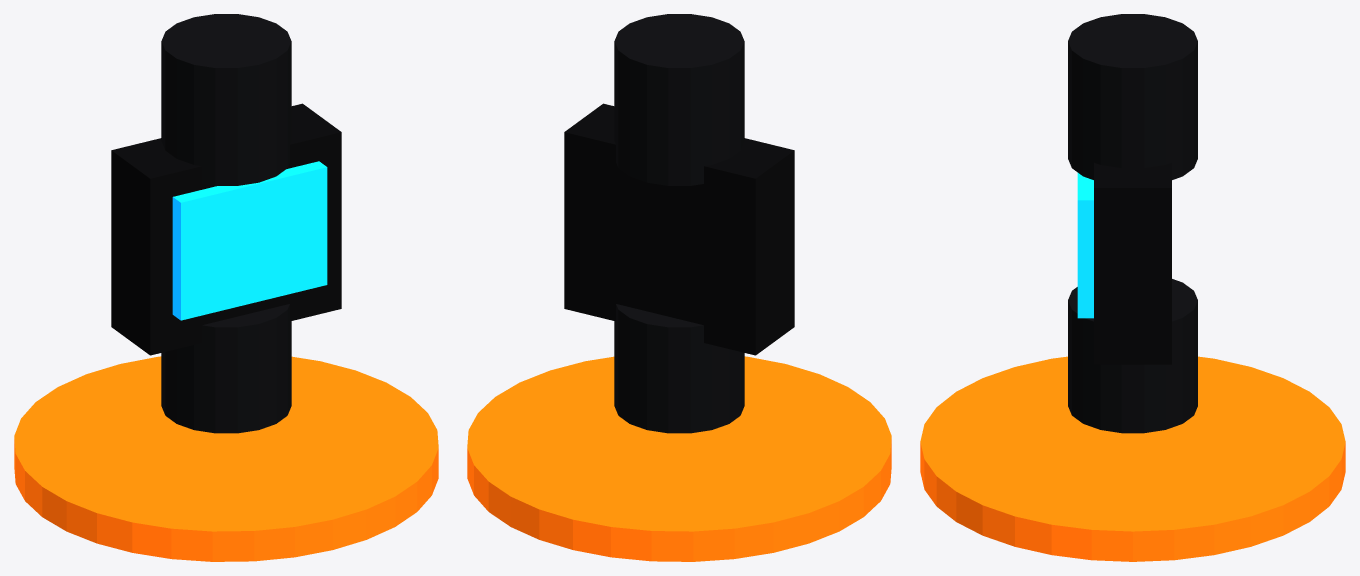
The model's file is fitness_smart_watch.dae.
The picture shows the model from 3 angles, left to right: view 1: azimuth 30°, elevation 25°; view 2: azimuth 150°, elevation 25°; view 3: azimuth 270°, elevation 25°; orthographic projection.
Visible parts, largest first — view 1: 02_05_Popular_Fitness_Smart_Watch_ROOT_base, 02_05_Popular_Fitness_Smart_Watch_part_01, 02_05_Popular_Fitness_Smart_Watch_part_04, 02_05_Popular_Fitness_Smart_Watch_part_02, 02_05_Popular_Fitness_Smart_Watch_part_03; view 2: 02_05_Popular_Fitness_Smart_Watch_ROOT_base, 02_05_Popular_Fitness_Smart_Watch_part_01, 02_05_Popular_Fitness_Smart_Watch_part_04, 02_05_Popular_Fitness_Smart_Watch_part_03; view 3: 02_05_Popular_Fitness_Smart_Watch_ROOT_base, 02_05_Popular_Fitness_Smart_Watch_part_04, 02_05_Popular_Fitness_Smart_Watch_part_01, 02_05_Popular_Fitness_Smart_Watch_part_03, 02_05_Popular_Fitness_Smart_Watch_part_02.
Part boxes in pixels (bbox=[...]): 02_05_Popular_Fitness_Smart_Watch_ROOT_base: bbox=[14, 356, 438, 561]; 02_05_Popular_Fitness_Smart_Watch_part_01: bbox=[111, 103, 341, 355]; 02_05_Popular_Fitness_Smart_Watch_part_04: bbox=[161, 14, 291, 185]; 02_05_Popular_Fitness_Smart_Watch_part_02: bbox=[172, 161, 327, 320]; 02_05_Popular_Fitness_Smart_Watch_part_03: bbox=[161, 304, 291, 433]; 02_05_Popular_Fitness_Smart_Watch_ROOT_base: bbox=[467, 356, 891, 561]; 02_05_Popular_Fitness_Smart_Watch_part_01: bbox=[564, 103, 794, 355]; 02_05_Popular_Fitness_Smart_Watch_part_04: bbox=[614, 14, 744, 185]; 02_05_Popular_Fitness_Smart_Watch_part_03: bbox=[614, 304, 744, 433]; 02_05_Popular_Fitness_Smart_Watch_ROOT_base: bbox=[920, 356, 1345, 561]; 02_05_Popular_Fitness_Smart_Watch_part_04: bbox=[1068, 14, 1197, 179]; 02_05_Popular_Fitness_Smart_Watch_part_01: bbox=[1094, 162, 1171, 364]; 02_05_Popular_Fitness_Smart_Watch_part_03: bbox=[1068, 279, 1197, 433]; 02_05_Popular_Fitness_Smart_Watch_part_02: bbox=[1077, 173, 1093, 318].
Bounding box in the file's own units: 0.76 × 0.85 × 0.76.
